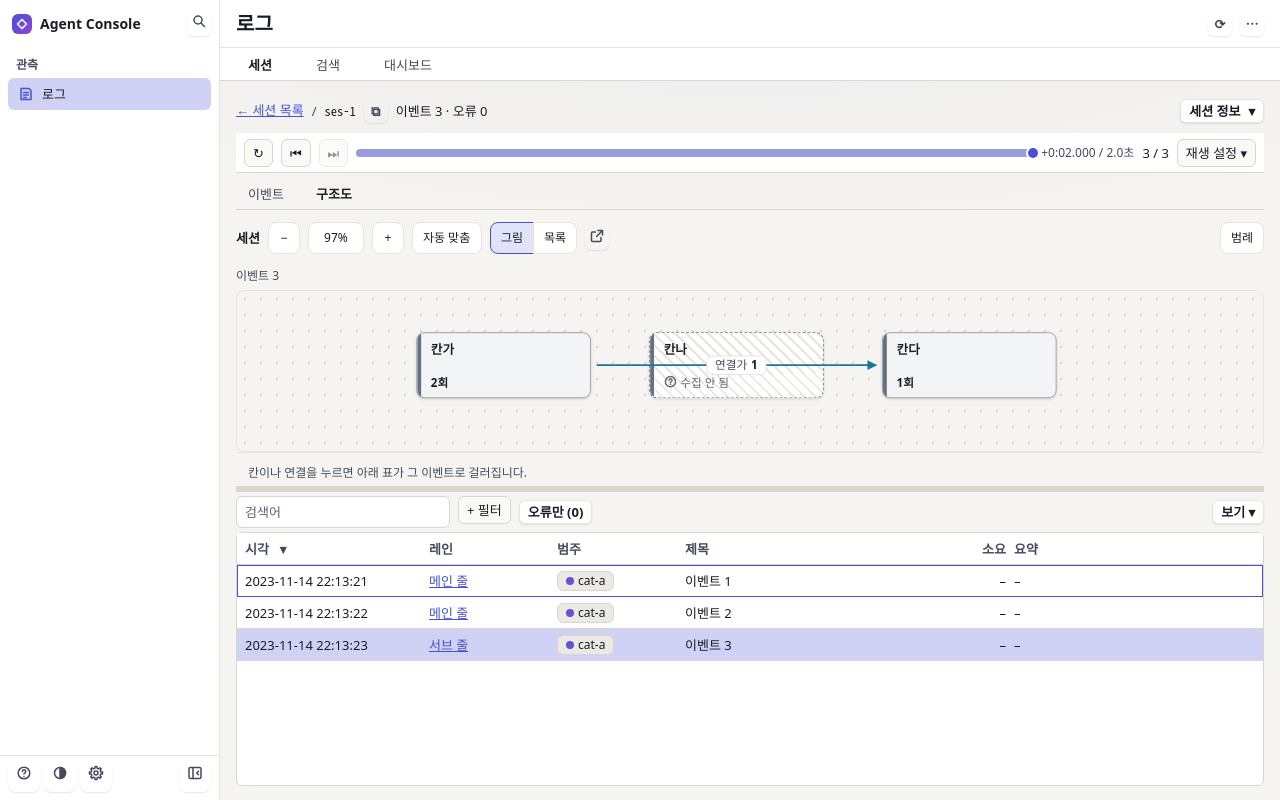
세션 상세 [구조도] 뷰 탭 › 뷰 탭을 바꿔도 구조도 칩과 표 필터가 유지되고, ?view=architecture는 새로 고침해도 구조도 뷰를 연다(AC-4)
This screenshot has width=1280, height=800.
Step 1. Click the button "칸가 2회" → (504, 365), box x1=416 y1=332 x2=591 y2=398
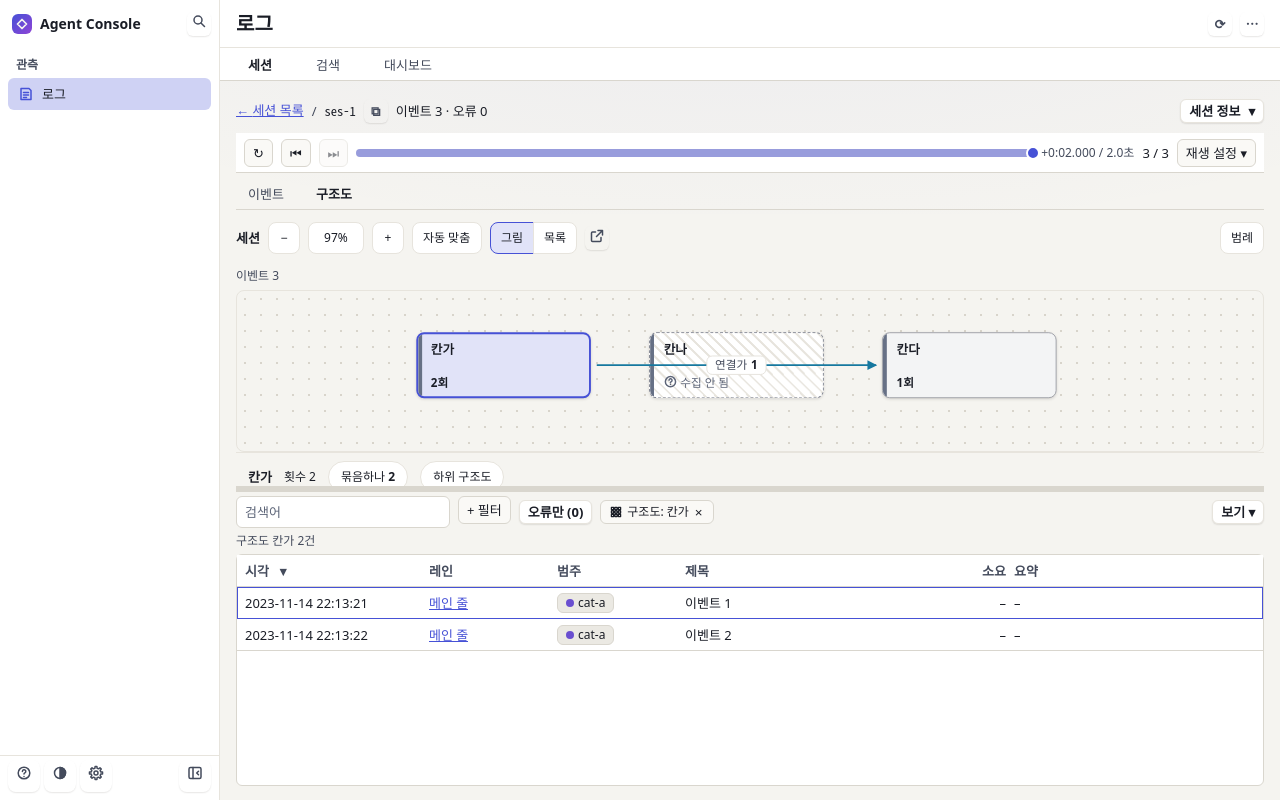
Now the text "구조도: 칸가" is shown, box x1=627 y1=501 x2=689 y2=523
Step 2. Click the tab "이벤트" → (268, 195), box x1=236 y1=177 x2=300 y2=213
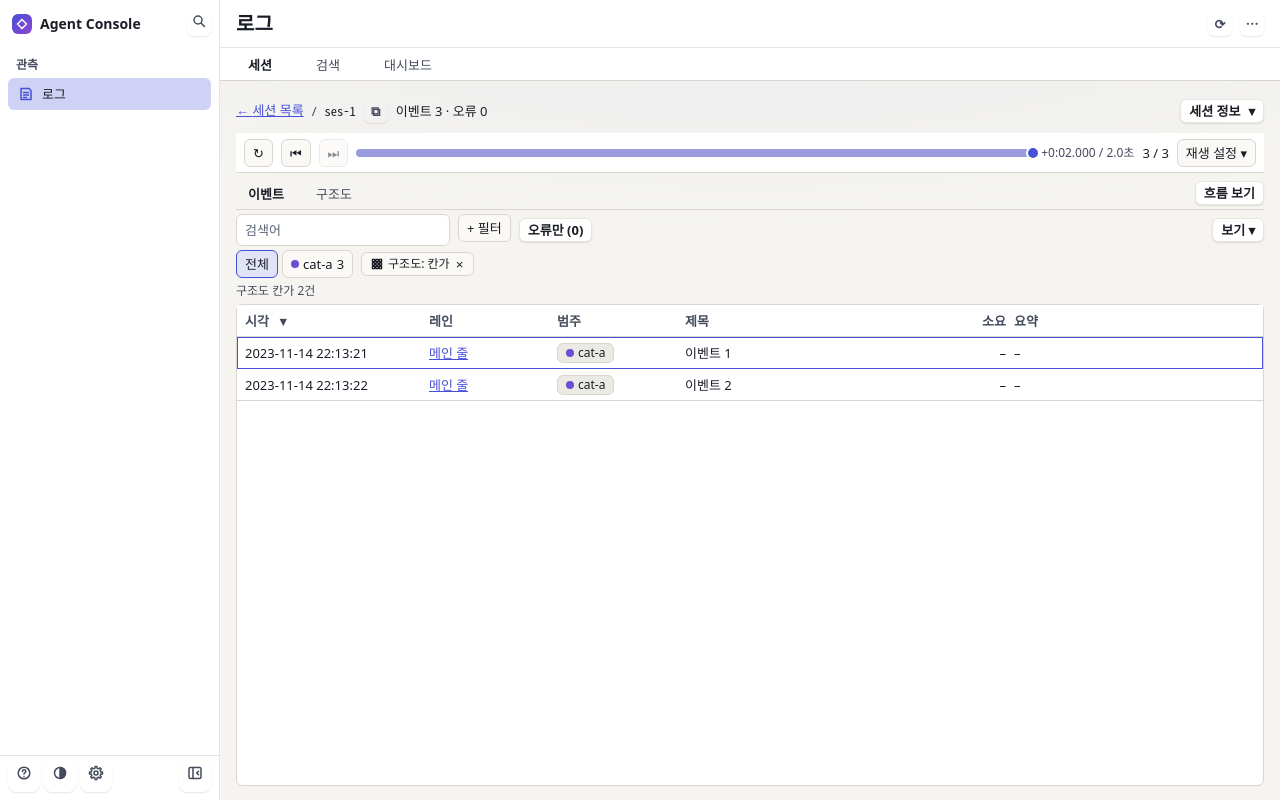
Now the text "구조도: 칸가" is shown, box x1=388 y1=253 x2=450 y2=275
Step 3. Click the tab "구조도" → (336, 195), box x1=304 y1=177 x2=368 y2=213
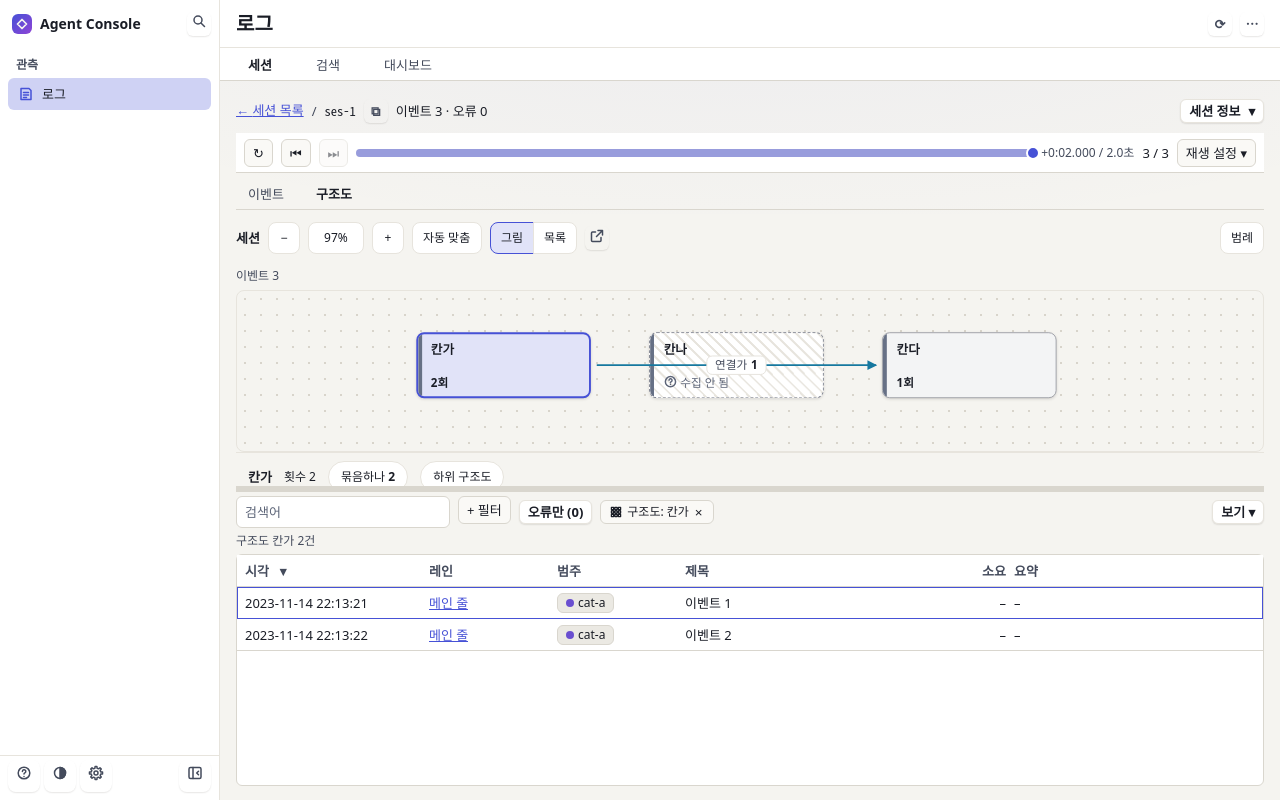
Now the text "구조도: 칸가" is shown, box x1=627 y1=501 x2=689 y2=523
Now the element "구조도" is shown, box x1=236 y1=214 x2=1264 y2=486
